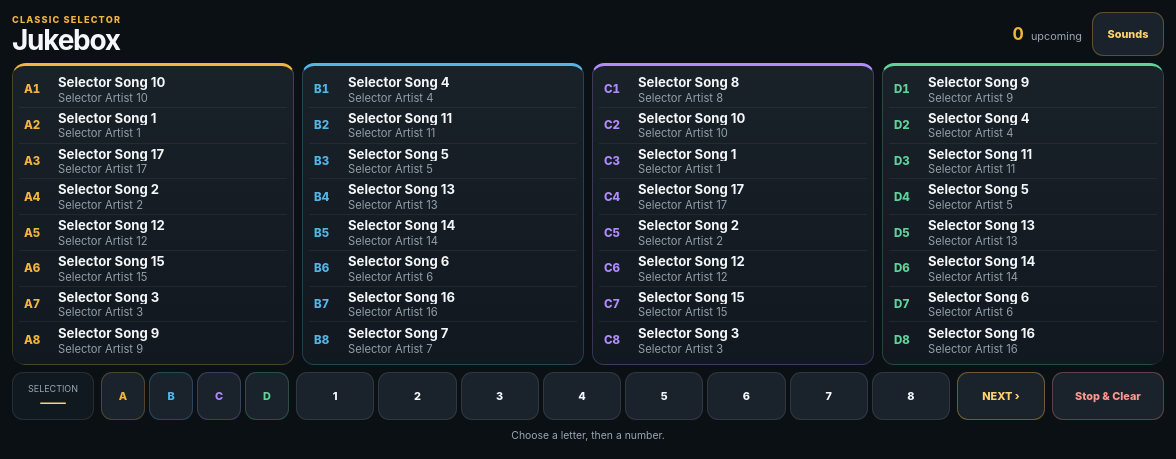
Test case: classic Jukebox screen › shows no false confirmation after a queue API failure
The width and height of the screenshot is (1176, 459).
Expected: the element named "Panel A" is shown, [12,63,294,365]
Click the button named "Select panel A" at (123, 396), box [101,372,145,420]
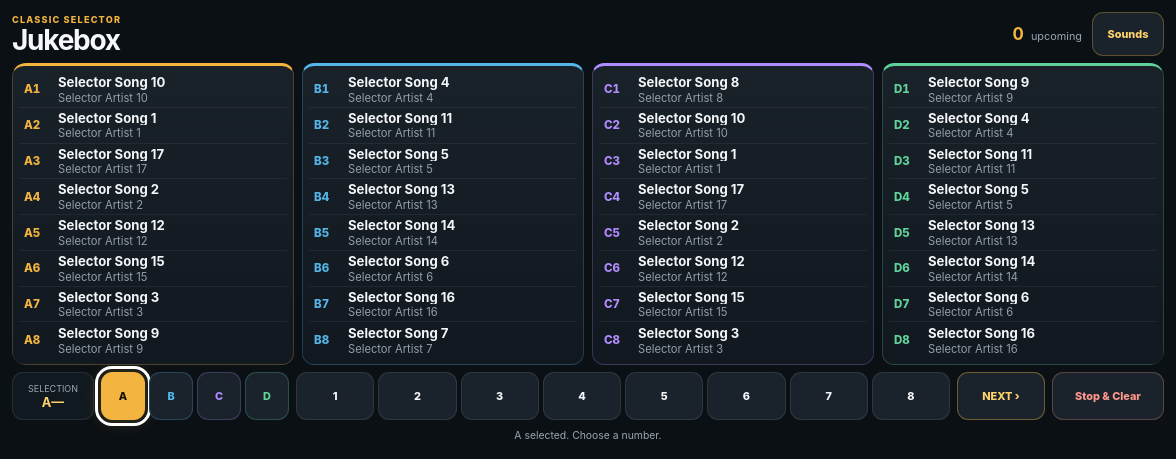
Click the button named "Select song number 1" at (335, 396), box [296,372,374,420]
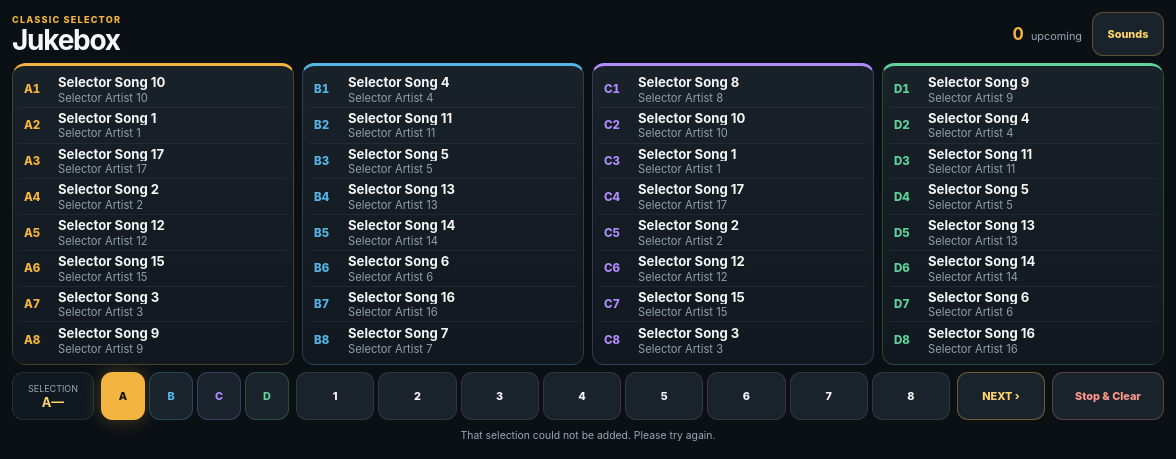
Result: the text "That selection could not be added. Please try again." is shown at [461,429,716,442]
